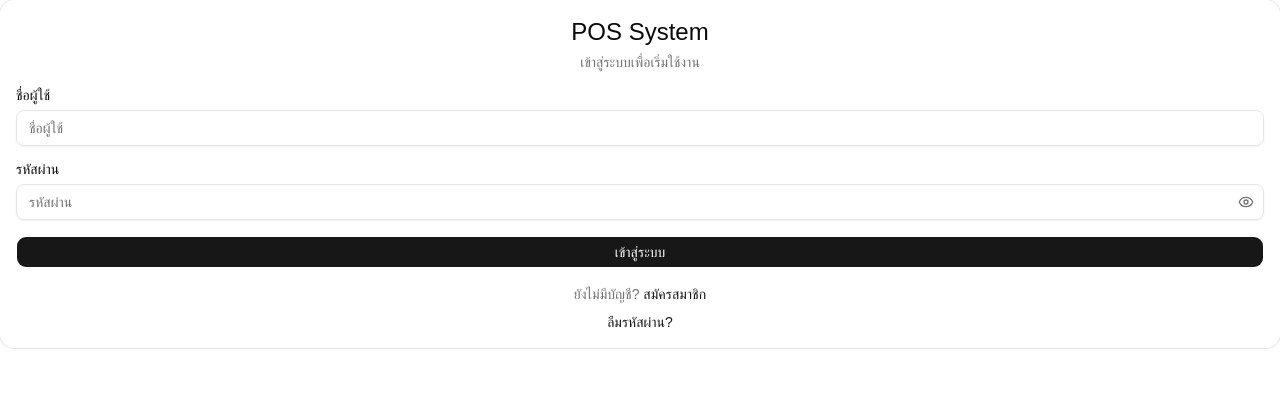
Scenario: LoginPage › shows validation error for short username
Type "ab" into the field labelled "ชื่อผู้ใช้".
click(640, 128); type("ab")  # box x1=16 y1=110 x2=1264 y2=146
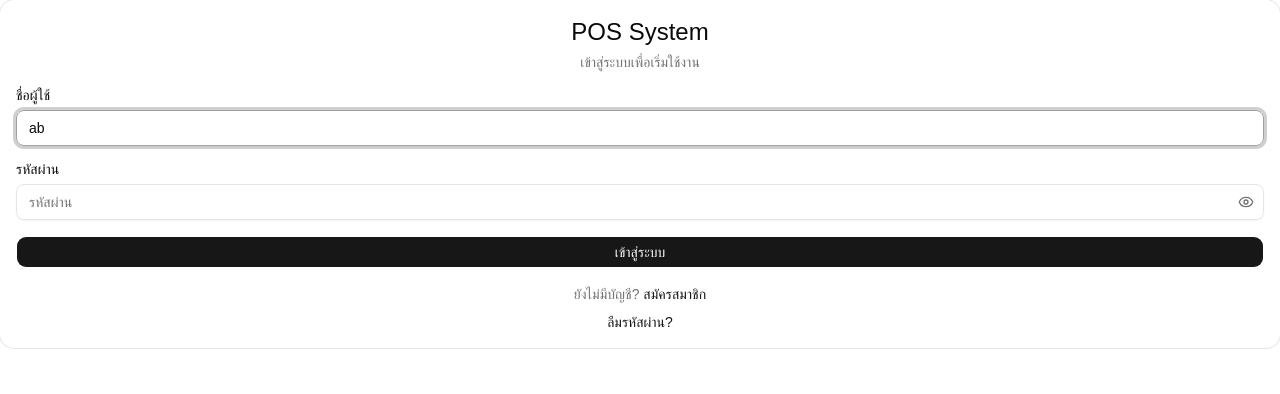
Type "12345678" into the password field labelled "รหัสผ่าน".
click(640, 202); type("12345678")  # box x1=16 y1=184 x2=1264 y2=220
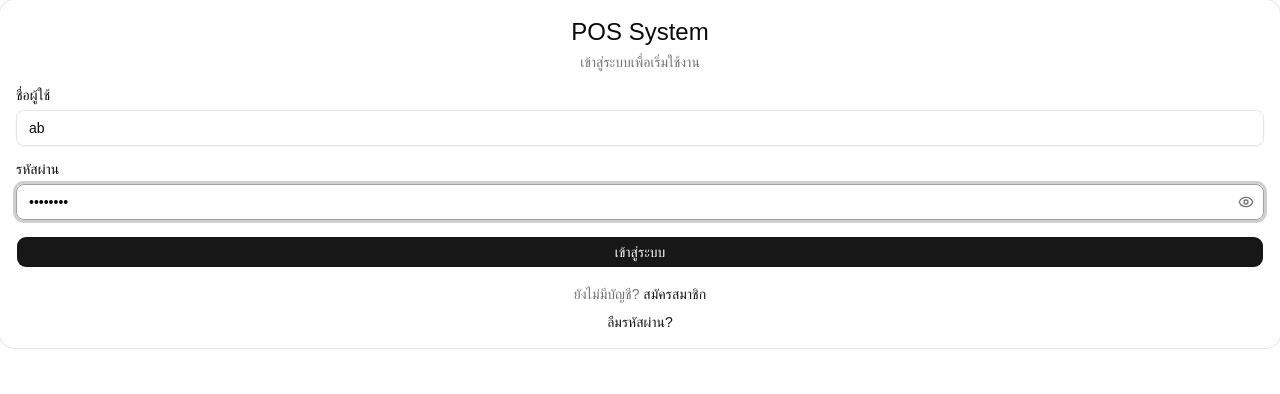
Click the button "เข้าสู่ระบบ".
click(640, 252)  # box x1=16 y1=236 x2=1264 y2=268
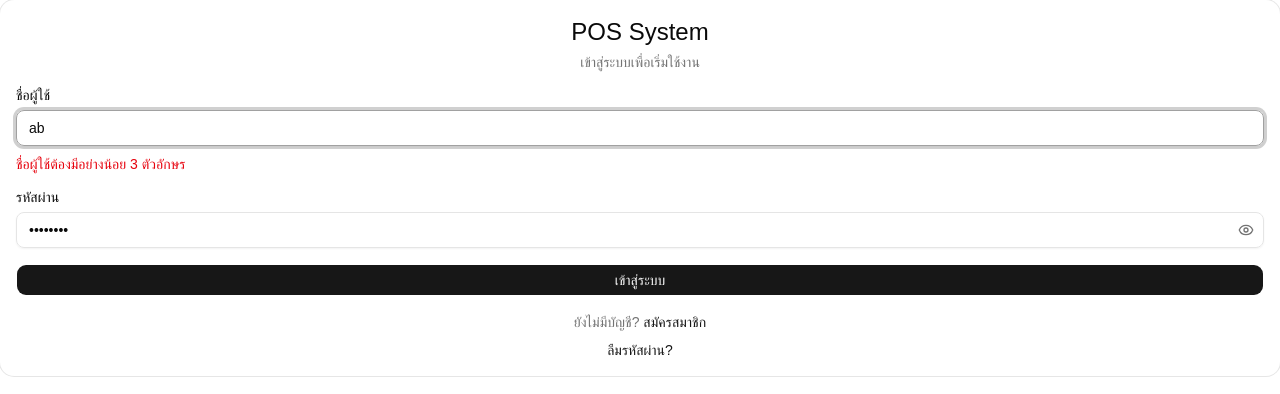
expect the text "ชื่อผู้ใช้ต้องมีอย่างน้อย 3 ตัวอักษร" is shown: met, box x1=16 y1=156 x2=186 y2=172
